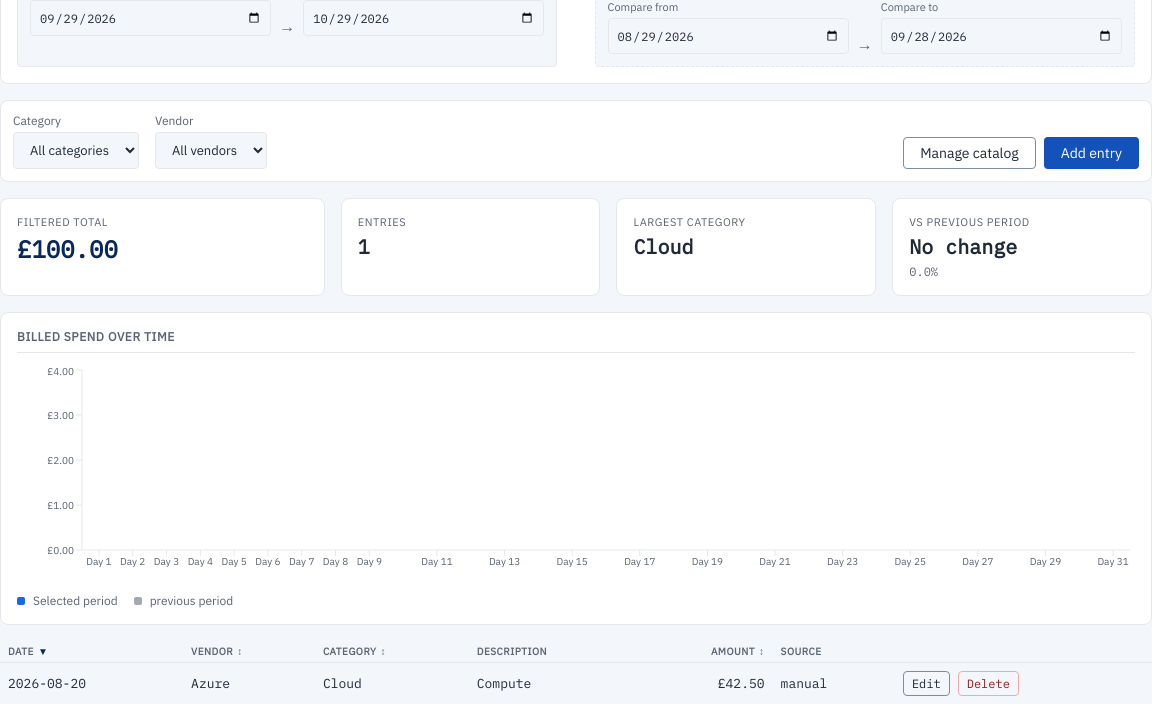
Test: opens the edit form for a ledger row, filled from that entry
(page scrolled)
Click the button with aria-label "Edit entry from 2026-08-20".
click(926, 684)  # box [903,671,950,696]
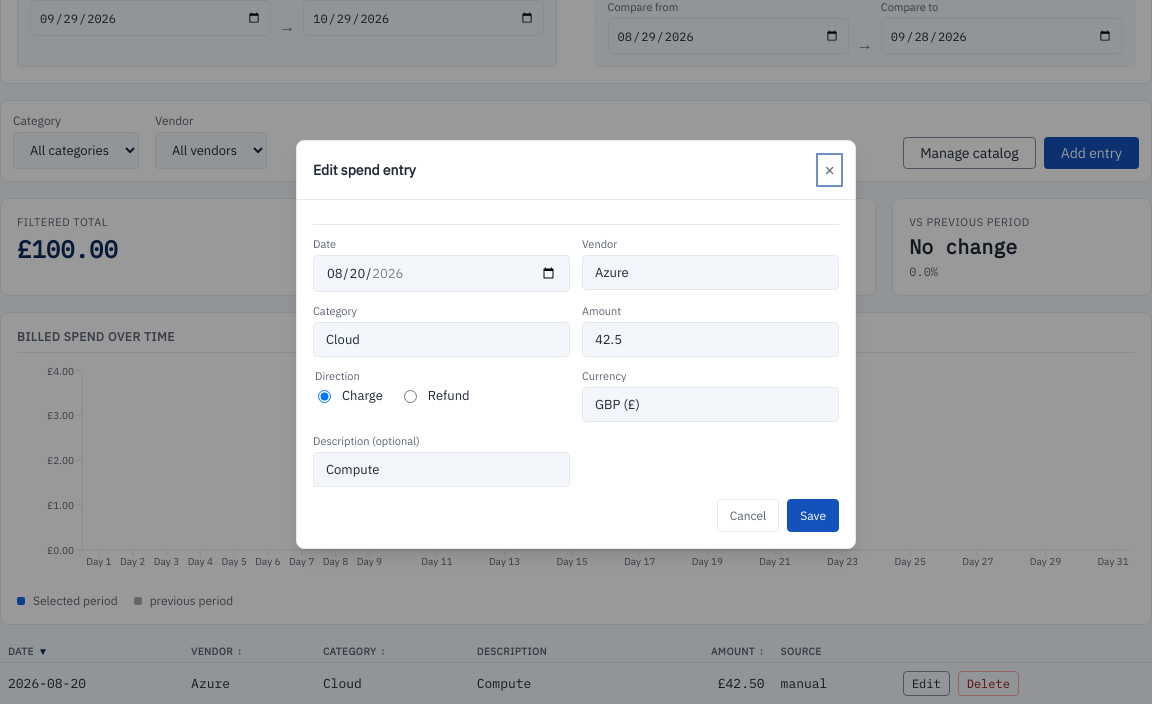
expect the text "Edit spend entry" is shown: met, box [313,160,416,178]
expect the number field labelled "Amount" holds "42.5": met, box [582,322,839,356]
expect the field labelled "Description (optional)" holds "Compute": met, box [313,452,570,486]
